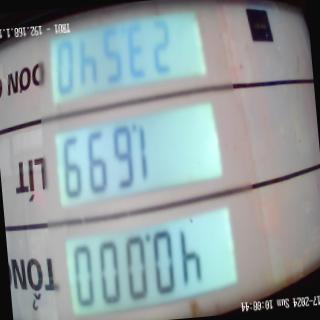screen: (35, 0, 245, 320)
